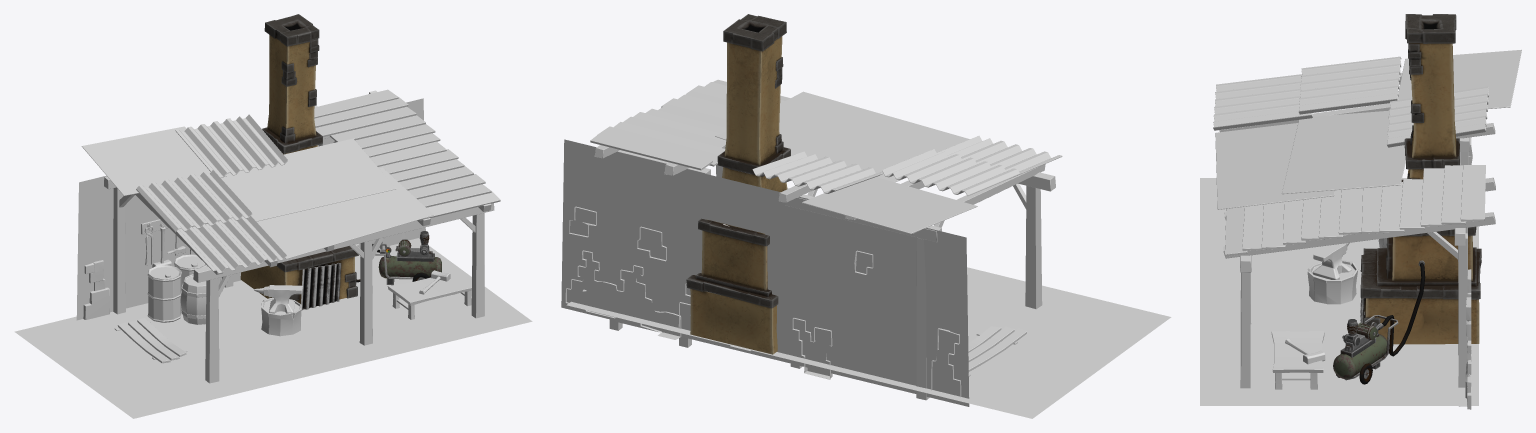
Rendered from blacksmithWorkshopAll.fbx.
3 views of the same model, side by side, from view 1: azimuth 30°, elevation 25°; view 2: azimuth 150°, elevation 25°; view 3: azimuth 270°, elevation 25° (orthographic). The views are drawn at different scales.
Visible parts, largest first — view 1: BlacksmithWorkshopEnviro, BlacksmithForge, BlacksmithForgeCompressor; view 2: BlacksmithWorkshopEnviro, BlacksmithForge; view 3: BlacksmithWorkshopEnviro, BlacksmithForge, BlacksmithForgeCompressor.
Part boxes in pixels (bbox=[...]): BlacksmithWorkshopEnviro: bbox=[14, 89, 532, 418]; BlacksmithForge: bbox=[240, 14, 358, 310]; BlacksmithForgeCompressor: bbox=[356, 231, 441, 285]; BlacksmithWorkshopEnviro: bbox=[561, 79, 1171, 418]; BlacksmithForge: bbox=[686, 14, 790, 354]; BlacksmithWorkshopEnviro: bbox=[1200, 49, 1521, 409]; BlacksmithForge: bbox=[1360, 14, 1481, 344]; BlacksmithForgeCompressor: bbox=[1333, 260, 1425, 384].
Bounding box in the file's own units: 1914 × 1230 × 1119.
